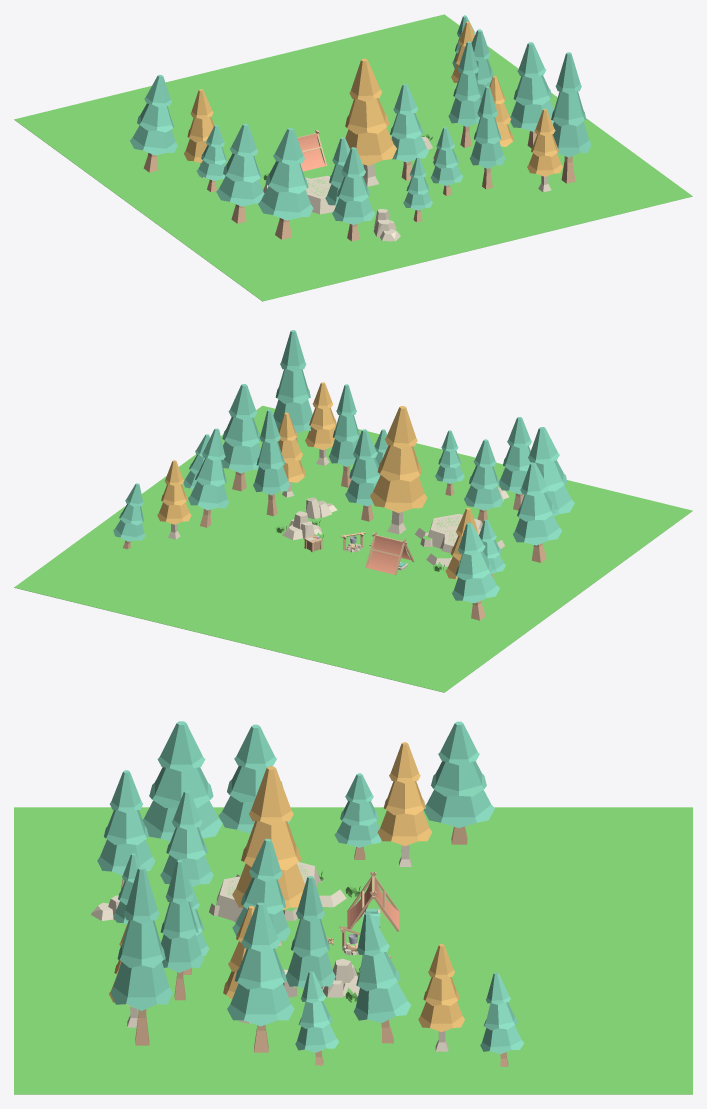
File: campfire.glb
3 views of the same model, one above another, from view 1: azimuth 30°, elevation 25°; view 2: azimuth 150°, elevation 25°; view 3: azimuth 270°, elevation 25° (orthographic). The views are drawn at different scales.
Parts seen in each view (by area): view 1: Cube, treeFall.002, tree.010, tree.002, tree.011, tree.013, tree.005, tree.008, tree.001, tree.009, tree, treeFall (+11 smaller); view 2: Cube, treeFall.002, tree.005, tree.011, tree.013, tree.002, tree.007, tree.009, tree.001, tree.010, tree.015, tree (+11 smaller); view 3: Cube, tree.002, tree.005, tree.010, tree.013, treeFall.002, tree.007, treeFall.004, tree.008, tree, tree.009, tree.011 (+11 smaller).
Boxes of the visible parts, <box> form: Cube: <box>14,14,692,301</box>; treeFall.002: <box>345,58,396,186</box>; tree.010: <box>258,128,313,239</box>; tree.002: <box>551,52,591,183</box>; tree.011: <box>216,123,264,223</box>; tree.013: <box>130,75,177,172</box>; tree.005: <box>510,42,554,148</box>; tree.008: <box>332,147,375,241</box>; tree.001: <box>390,84,428,180</box>; tree.009: <box>448,41,481,147</box>; tree: <box>469,86,505,189</box>; treeFall: <box>527,109,562,192</box>; Cube: <box>14,405,692,692</box>; treeFall.002: <box>370,406,426,534</box>; tree.005: <box>222,384,260,491</box>; tree.011: <box>513,462,562,562</box>; tree.013: <box>452,522,499,620</box>; tree.002: <box>273,330,312,442</box>; tree.007: <box>188,428,229,527</box>; tree.009: <box>253,409,289,516</box>; tree.001: <box>345,429,380,521</box>; tree.010: <box>519,427,574,516</box>; tree.015: <box>464,439,503,523</box>; tree: <box>328,384,359,487</box>; Cube: <box>14,807,692,1094</box>; tree.002: <box>110,867,172,1045</box>; tree.005: <box>227,902,294,1052</box>; tree.010: <box>143,721,222,841</box>; tree.013: <box>423,721,494,844</box>; treeFall.002: <box>232,766,304,945</box>; tree.007: <box>353,912,410,1043</box>; treeFall.004: <box>377,742,432,866</box>; tree.008: <box>97,770,155,890</box>; tree: <box>160,860,203,1000</box>; tree.009: <box>285,876,335,988</box>; tree.011: <box>218,724,289,833</box>.
Size of the model in its own units: 40 by 11.87 by 40.
